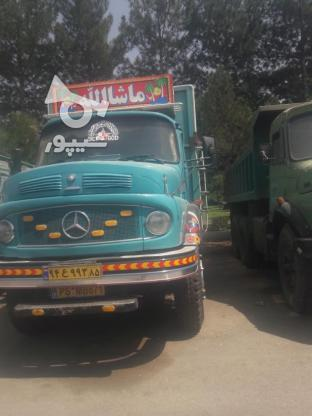car: (41, 263, 102, 280)
